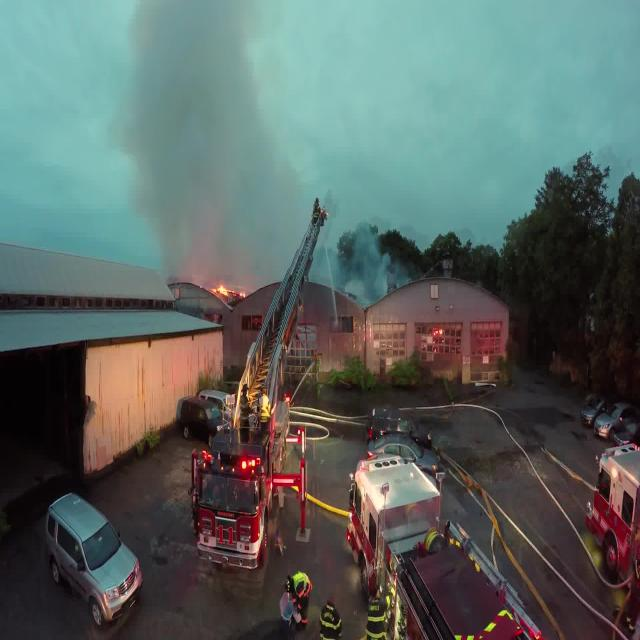Fire: (209, 282, 250, 297)
Smoke: (122, 0, 392, 289)
